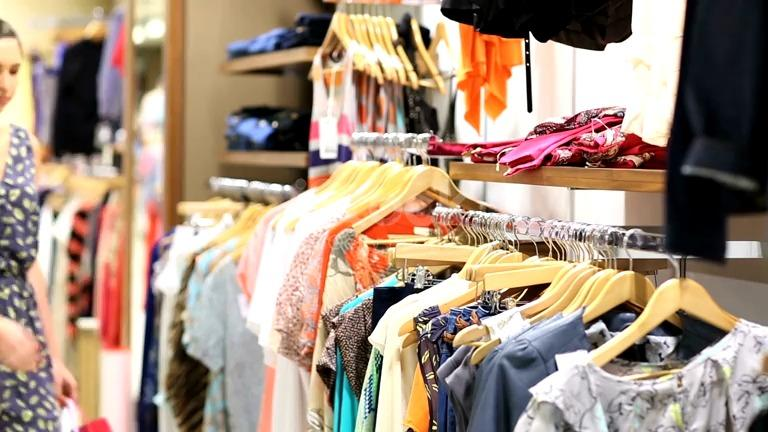Non shoplifting: (0, 1, 76, 432)
